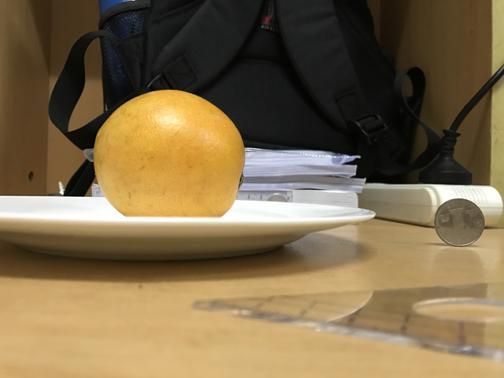coin: (433, 199, 484, 247)
orange: (96, 88, 248, 214)
